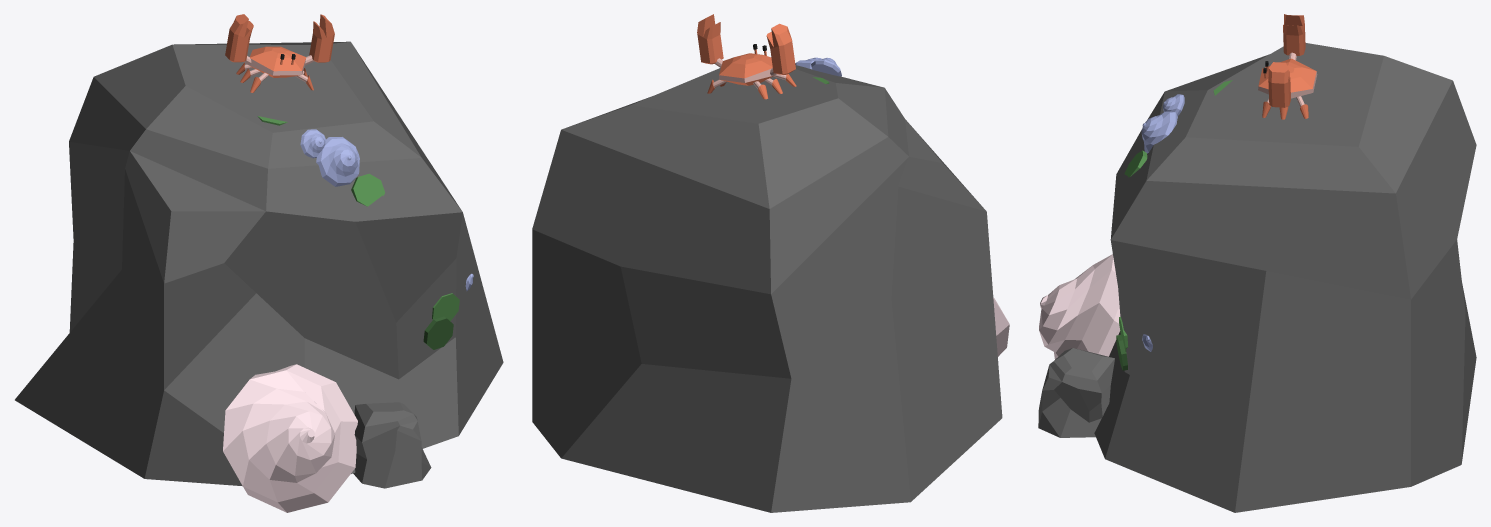
File: rocas02.fbx
3 views of the same model, side by side, from view 1: azimuth 30°, elevation 25°; view 2: azimuth 150°, elevation 25°; view 3: azimuth 270°, elevation 25° (orthographic). The views are drawn at different scales.
Visible parts, largest first — view 1: Cube.005, Cube.001; view 2: Cube.005, Cube.001; view 3: Cube.005, Cube.001.
Part boxes in pixels (x1=…): Cube.005: x1=15, y1=41, x2=503, y2=512; Cube.001: x1=225, y1=14, x2=334, y2=92; Cube.005: x1=532, y1=57, x2=1009, y2=512; Cube.001: x1=697, y1=14, x2=796, y2=99; Cube.005: x1=1038, y1=43, x2=1476, y2=512; Cube.001: x1=1258, y1=14, x2=1317, y2=119.
Bounding box in the file's own units: 305 × 284 × 280.
